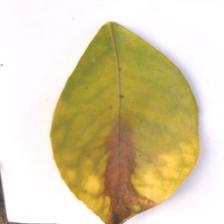black spot: (78, 107, 160, 217)
